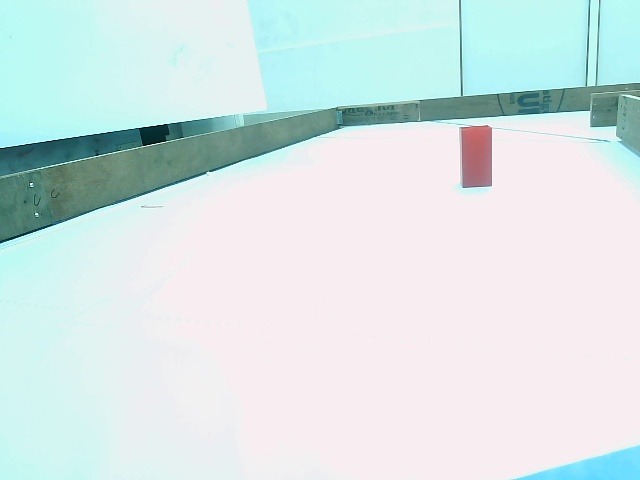red: (462, 128, 491, 186)
